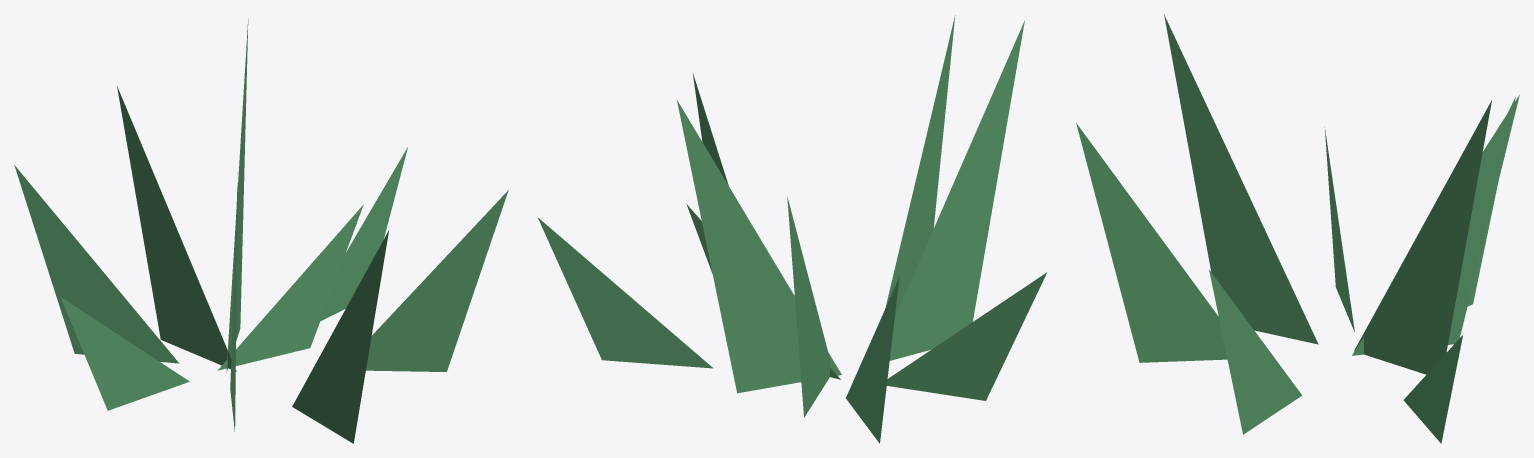
Rendered from grass_tuft.glb.
3 views of the same model, side by side, from view 1: azimuth 30°, elevation 25°; view 2: azimuth 150°, elevation 25°; view 3: azimuth 270°, elevation 25° (orthographic). The views are drawn at different scales.
Parts seen in each view (by area): view 1: Coastal Grass; view 2: Coastal Grass; view 3: Coastal Grass.
Part boxes in pixels (box(x1,y1,x2,y2)): Coastal Grass: box(14, 19, 508, 443); Coastal Grass: box(538, 15, 1046, 443); Coastal Grass: box(1076, 14, 1519, 443).
Size of the model in its own units: 1.16 by 0.77 by 1.04.
